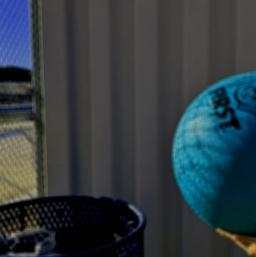algae: (169, 65, 256, 235)
